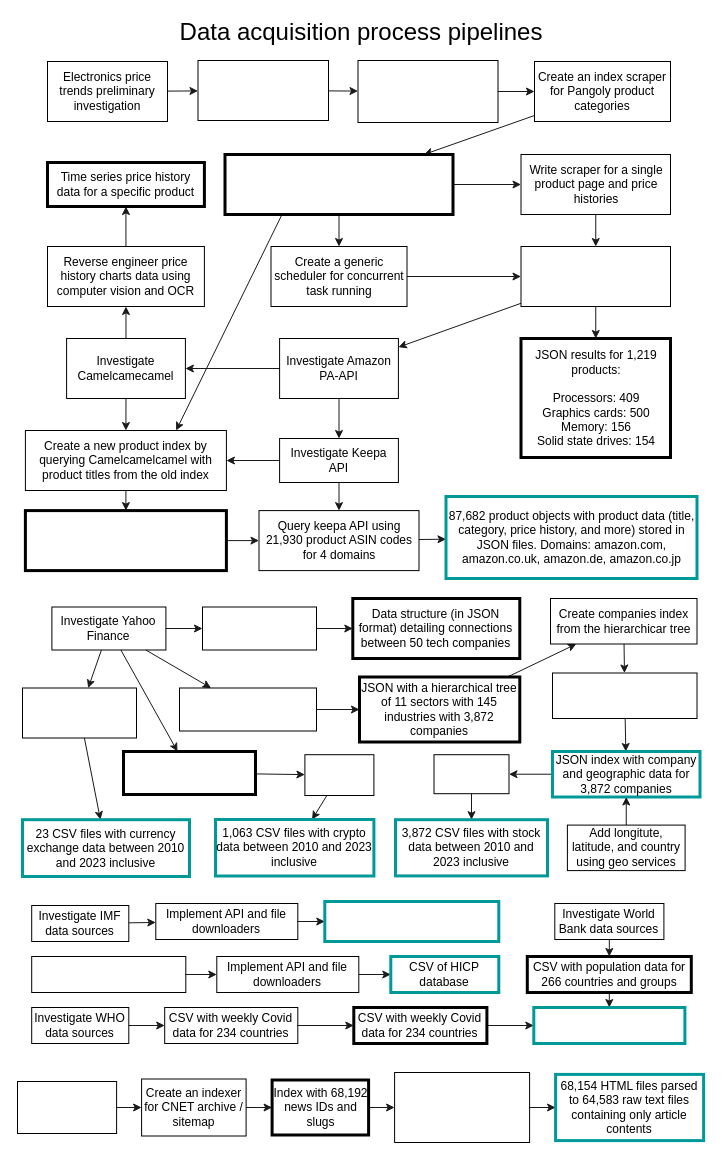
This 723x1160 diagram has some shape labels left out. The box of each missing label's shape, as (x1, y1, x2, y2) in pixels:
Add company profile data (address, employees count, ...): (552, 672, 697, 718)
Crawl related companies: (202, 606, 316, 650)
Create a Sectors index using a scraper: (178, 687, 316, 731)
Create code repository and project structure: (197, 60, 328, 120)
Create index with top 8,934 cryptocurrencies: (122, 750, 256, 796)
CSV of October 2023 World Economic Outlook database: (323, 900, 500, 942)
CSV with weekly Covid data per 100,000 people: (532, 1006, 686, 1044)
Download all article HTML files using the scheduler with 10 concurrent workers: (394, 1072, 530, 1142)
Download all currency exchange pairs: (22, 687, 136, 738)
Download crypto data: (304, 754, 374, 796)
Download stock data: (433, 754, 509, 794)
Explore Kaggle datasets, perform data recovery, and establish backups: (357, 60, 498, 122)
Investigate Eurostat data sources: (31, 956, 186, 992)
Investigate potential news data sources: (16, 1080, 117, 1134)
JSON index containing 10,167 products (22 categories): (223, 152, 454, 216)
JSON index containing 21,930 products (title and ASIN): (23, 509, 227, 572)
Scrape and parse price history data for 1,909 products from the index: (520, 246, 670, 306)
